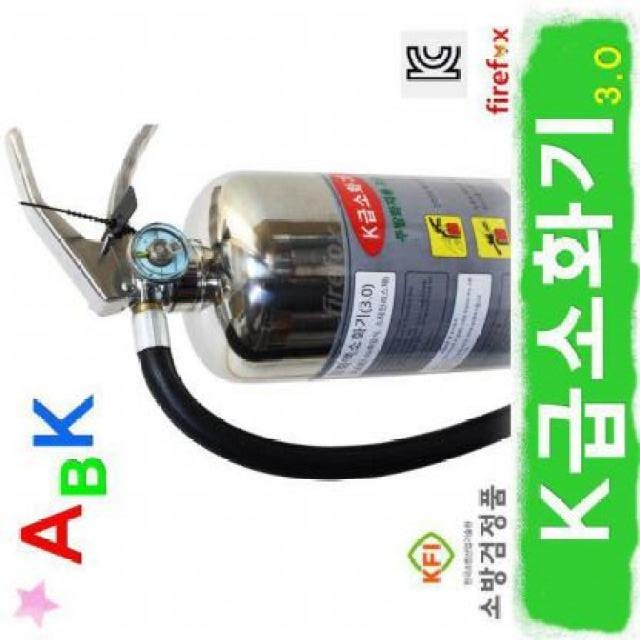fire extinguisher: (5, 122, 512, 481)
